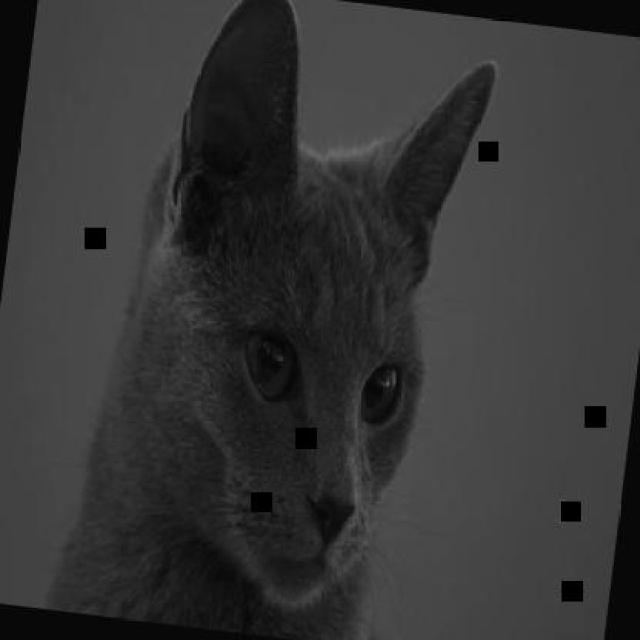cat: (36, 0, 532, 638)
